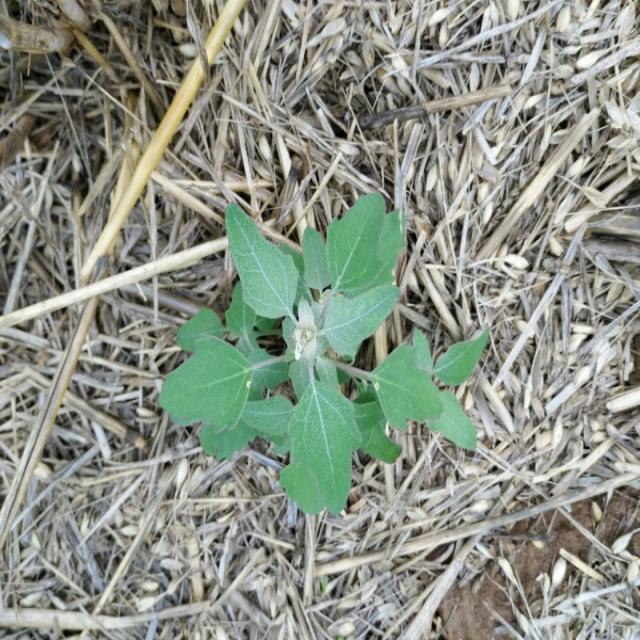goosefoots: (179, 187, 485, 515)
